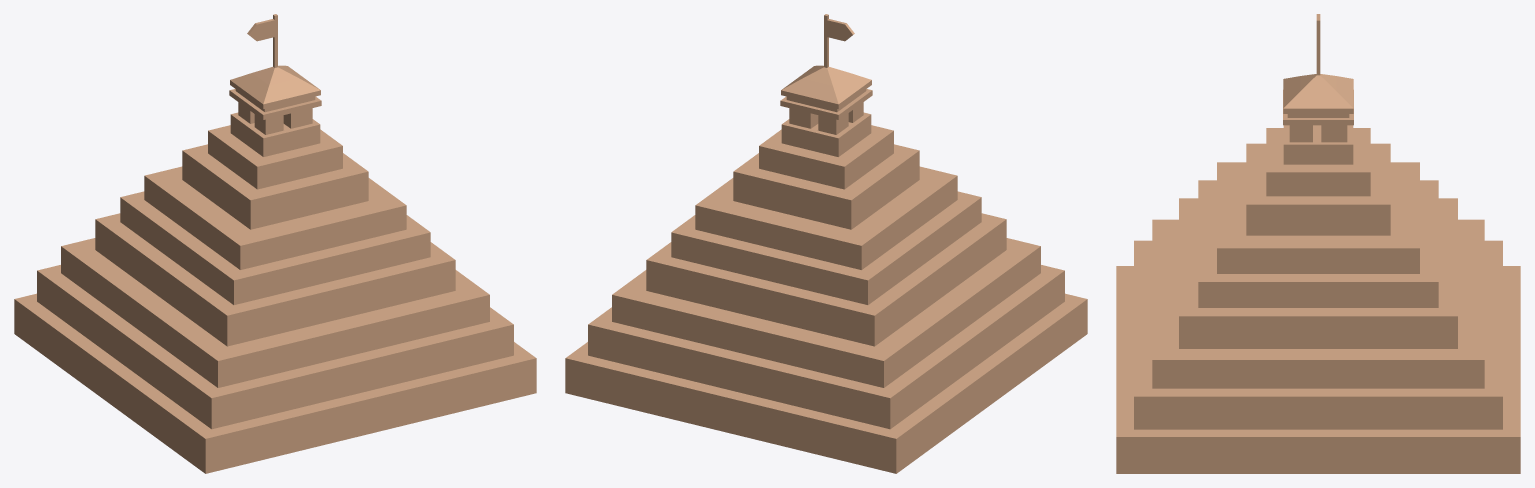
3 renders of one model, left to right at view 1: azimuth 30°, elevation 25°; view 2: azimuth 150°, elevation 25°; view 3: azimuth 270°, elevation 25°, orthographic. The views are drawn at different scales.
Parts seen in each view (by area): view 1: Pyramid; view 2: Pyramid; view 3: Pyramid.
Part boxes in pixels (left/top/right/bottom): Pyramid: left=14, top=14, right=536, bottom=473; Pyramid: left=565, top=14, right=1087, bottom=473; Pyramid: left=1116, top=14, right=1520, bottom=473.
Bounding box in the file's own units: 6.06 × 6.1 × 6.06.
Materials: 1 (1 with a texture image).
